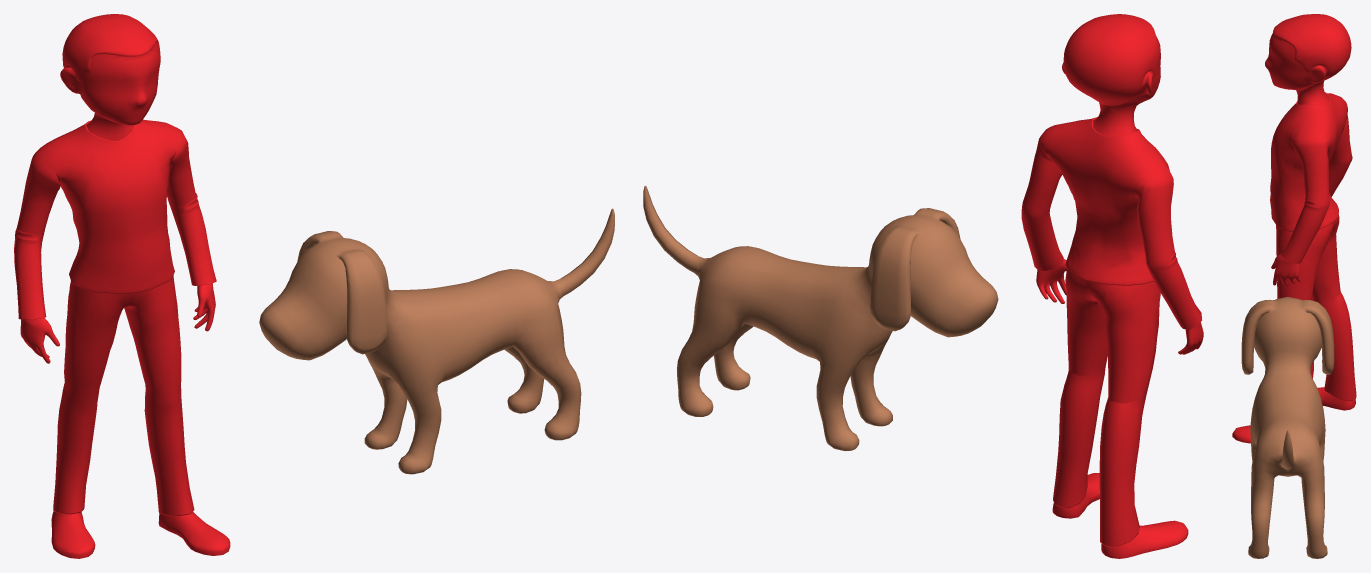
Rendered from example.glb.
3 renders of one model, left to right at view 1: azimuth 30°, elevation 25°; view 2: azimuth 150°, elevation 25°; view 3: azimuth 270°, elevation 25°, orthographic. The views are drawn at different scales.
Parts seen in each view (by area): view 1: mesh_id29, mesh_id31; view 2: mesh_id29, mesh_id31; view 3: mesh_id29, mesh_id31.
Boxes of the visible parts, box(x1,y1,x2,y2) form: mesh_id29: box(14, 14, 230, 558); mesh_id31: box(259, 208, 614, 474); mesh_id29: box(1021, 14, 1203, 558); mesh_id31: box(643, 185, 998, 450); mesh_id29: box(1232, 14, 1356, 443); mesh_id31: box(1241, 297, 1334, 558).
Bounding box in the file's own units: 0.5304 × 0.4493 × 0.1276.
Materials: 2 (2 with a texture image).
